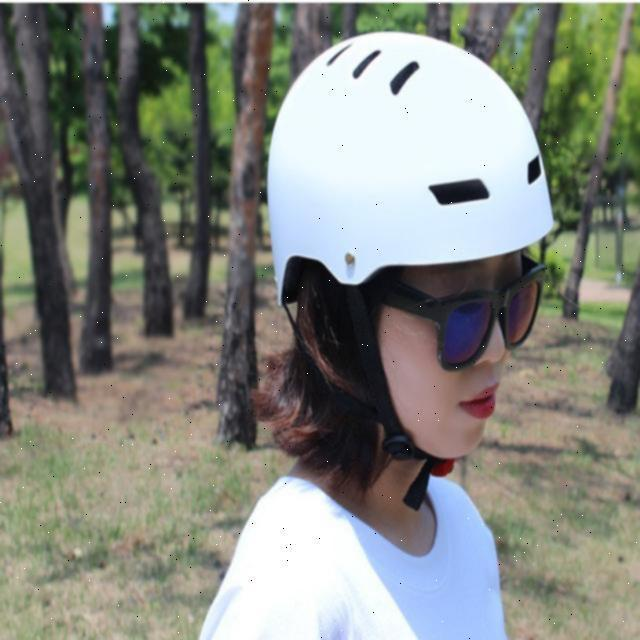helmet: (268, 34, 558, 478)
